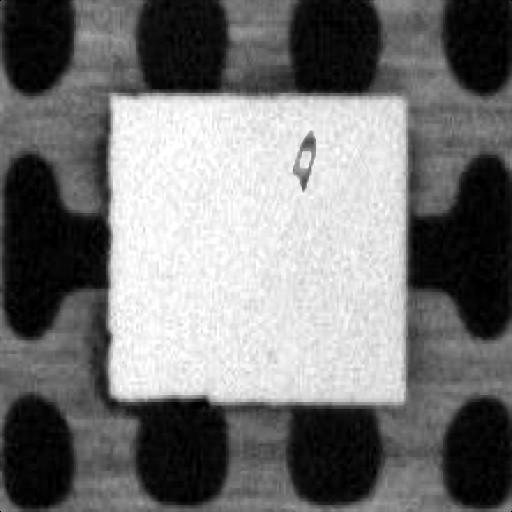DIE_INK: (288, 124, 316, 186)
